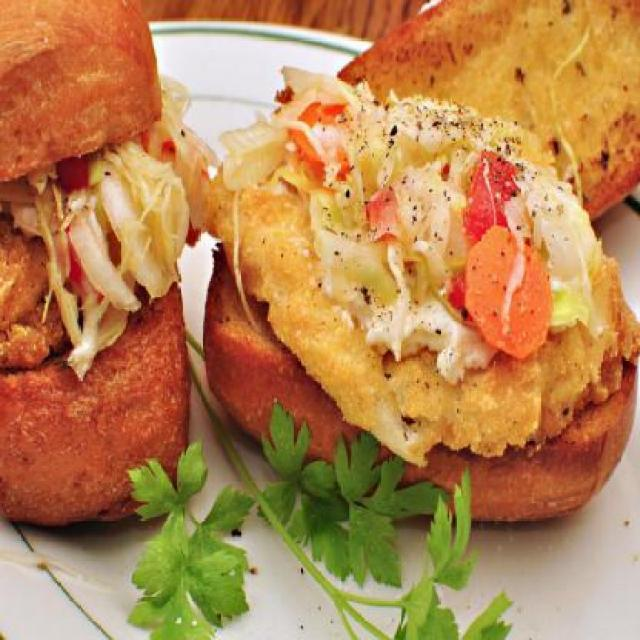Bread: (201, 244, 639, 522), (336, 1, 640, 224), (0, 285, 192, 529), (1, 0, 162, 186)
